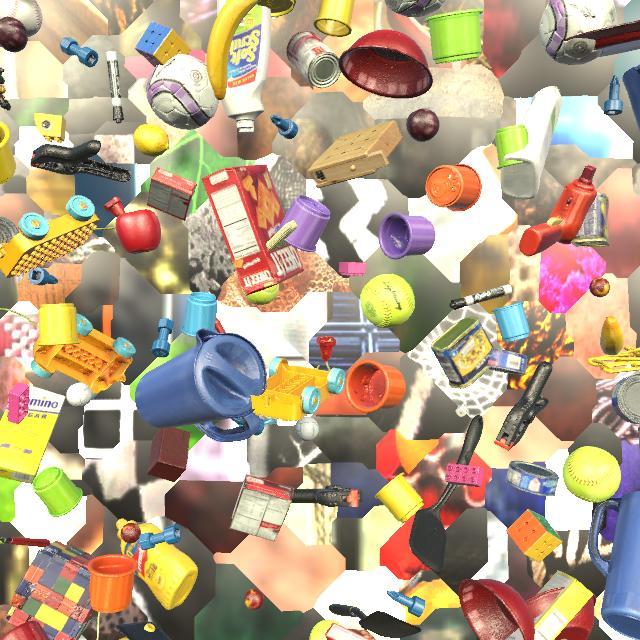ycb_003_cracker_box: (202, 164, 304, 296)
ycb_004_sugar_box: (0, 384, 65, 484), (505, 570, 593, 640)
ycb_005_tomato_soup_can: (286, 30, 341, 88)
ycb_006_mustard_bottle: (116, 518, 198, 610), (119, 623, 155, 640)
ycb_007_tuna_fish_can: (505, 461, 559, 497), (611, 374, 640, 424), (487, 348, 528, 376), (0, 216, 19, 244)
ycb_008_pudding_box: (229, 474, 294, 541)
ycb_009_gelatin_box: (147, 167, 197, 221), (325, 622, 370, 640)
ycb_010_potted_meat_can: (430, 317, 494, 389), (570, 192, 610, 247)
ycb_011_banana: (206, 0, 259, 100), (600, 316, 624, 356), (0, 537, 4, 545)
ycb_013_apple: (115, 209, 161, 254)
ycb_014_lemon: (134, 124, 169, 157)
ycb_018_plum: (406, 108, 440, 142), (0, 17, 28, 52)
